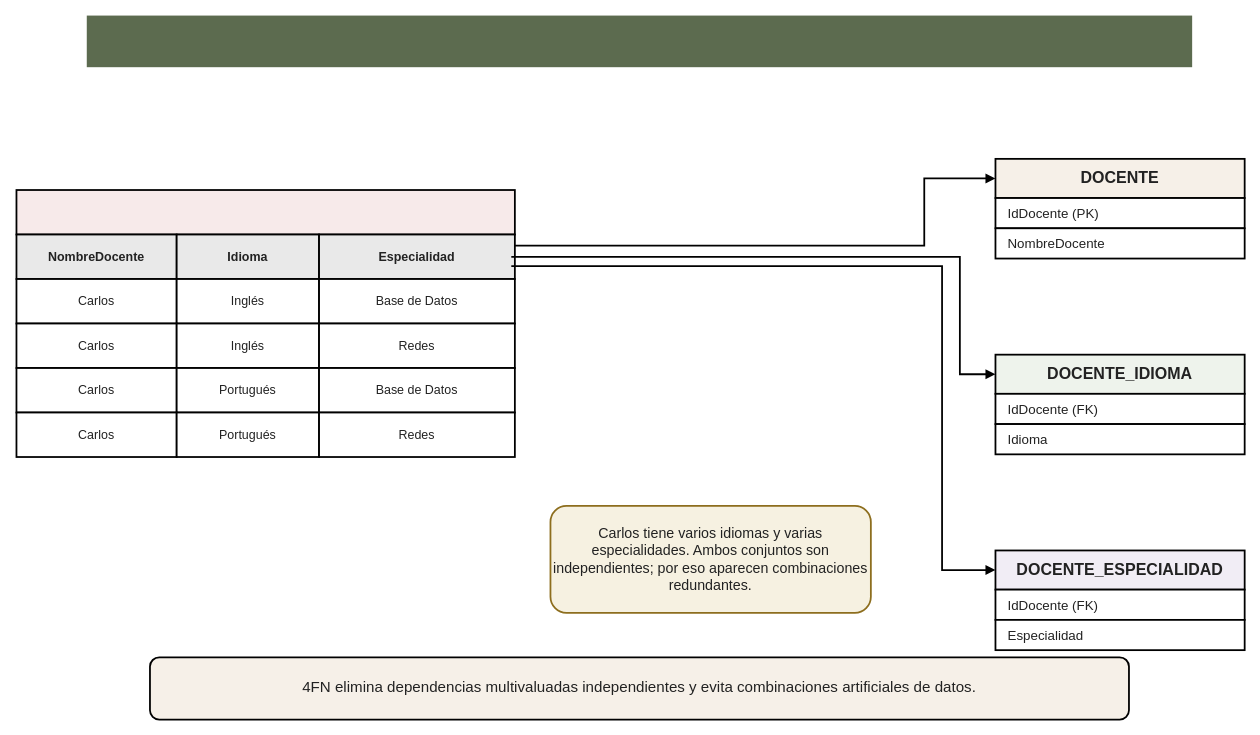
Some shapes in this 1260 by 735 pixel diagram are drawn without their labels. The shapes that lost their labels are listed below. From the top down, each one's centre as x and y in pixels, then its label:
At (639,41): "Cuarta Forma Normal (4FN)".
At (265,212): "DOCENTE — ANTES".
